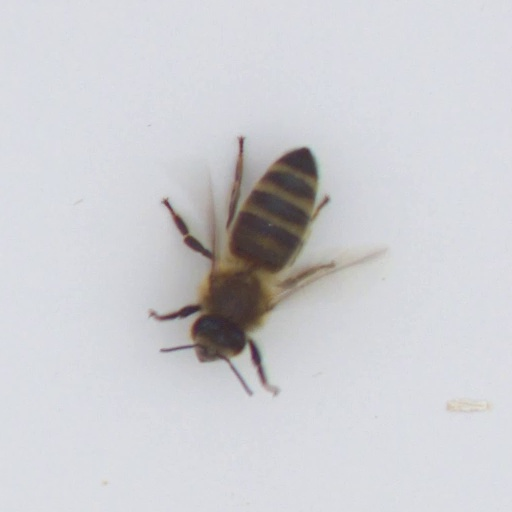Bee: (165, 124, 353, 385)
Thorax: (195, 262, 277, 331)
